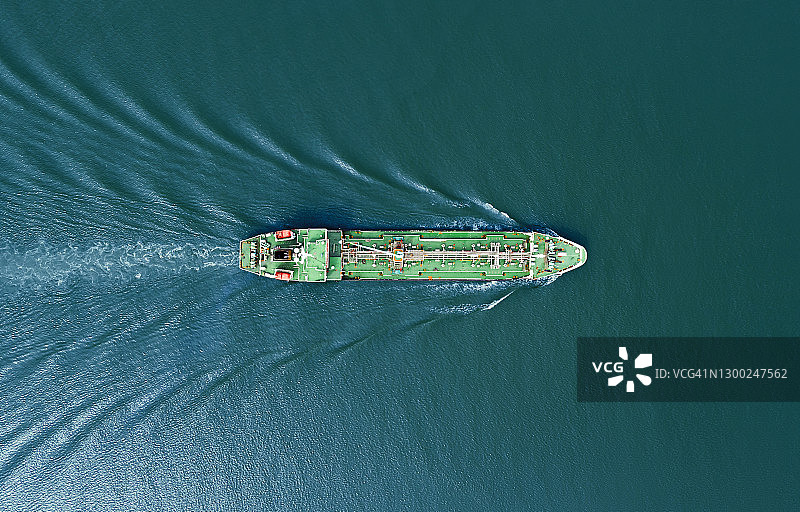ship: (226, 205, 591, 305)
